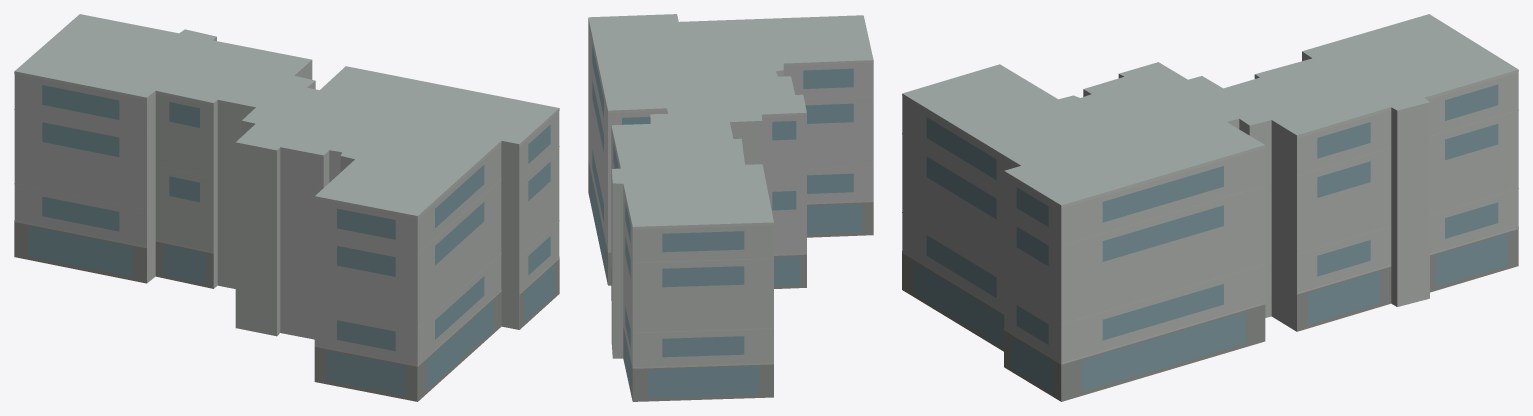
Rendered from survey-upis-32757376.glb.
The picture shows the model from 3 angles, left to right: view 1: azimuth 30°, elevation 25°; view 2: azimuth 150°, elevation 25°; view 3: azimuth 270°, elevation 25°; orthographic projection. The views are drawn at different scales.
Visible parts, largest first — view 1: survey-upis-32757376.tmp; view 2: survey-upis-32757376.tmp; view 3: survey-upis-32757376.tmp.
Boxes of the visible parts, box(x1,y1,x2,y2) form: survey-upis-32757376.tmp: box(14, 14, 559, 401); survey-upis-32757376.tmp: box(588, 14, 873, 401); survey-upis-32757376.tmp: box(902, 14, 1518, 401).
Size of the model in its own units: 31.78 by 15.2 by 43.25.
